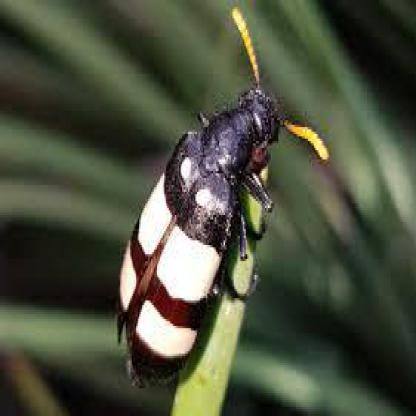blister beetle: (114, 11, 327, 386)
